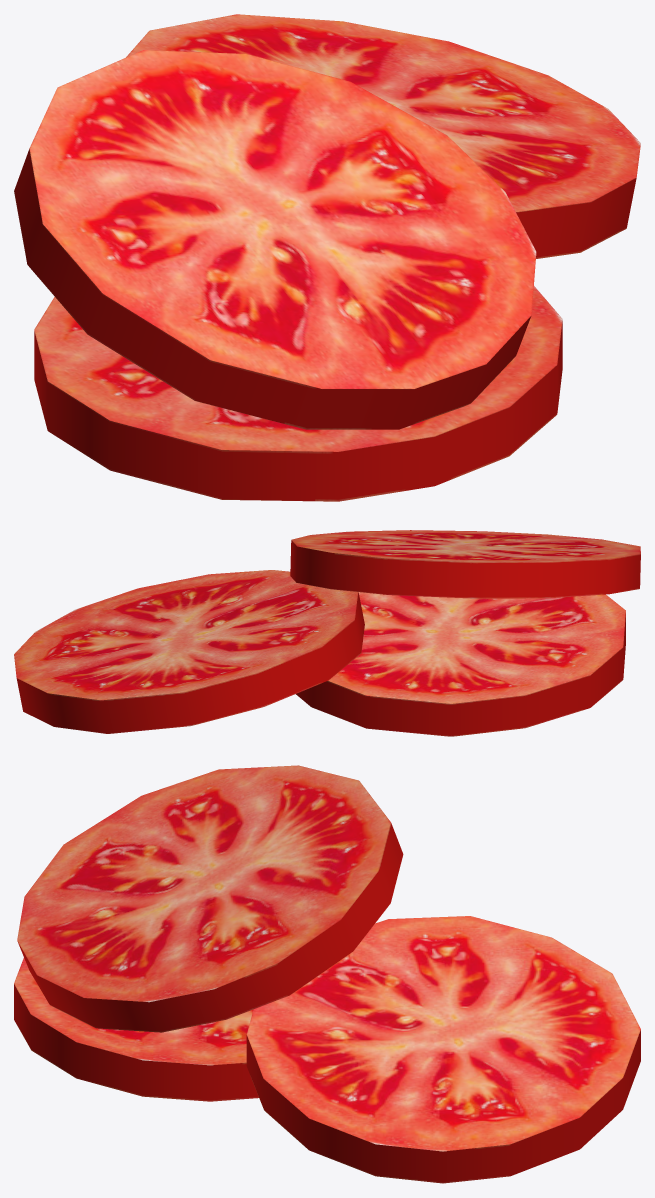
The model's file is tomato.glb.
3 views of the same model, one above another, from view 1: azimuth 30°, elevation 25°; view 2: azimuth 150°, elevation 25°; view 3: azimuth 270°, elevation 25° (orthographic). The views are drawn at different scales.
Parts seen in each view (by area): view 1: pCylinder4; view 2: pCylinder4; view 3: pCylinder4.
Boxes of the visible parts, x1,y1,x2,y2 form: pCylinder4: [14, 14, 640, 501]; pCylinder4: [14, 530, 640, 736]; pCylinder4: [14, 765, 640, 1183].
Size of the model in its own units: 0.0845 by 0.029 by 0.0867.
1 material, 1 textured.
